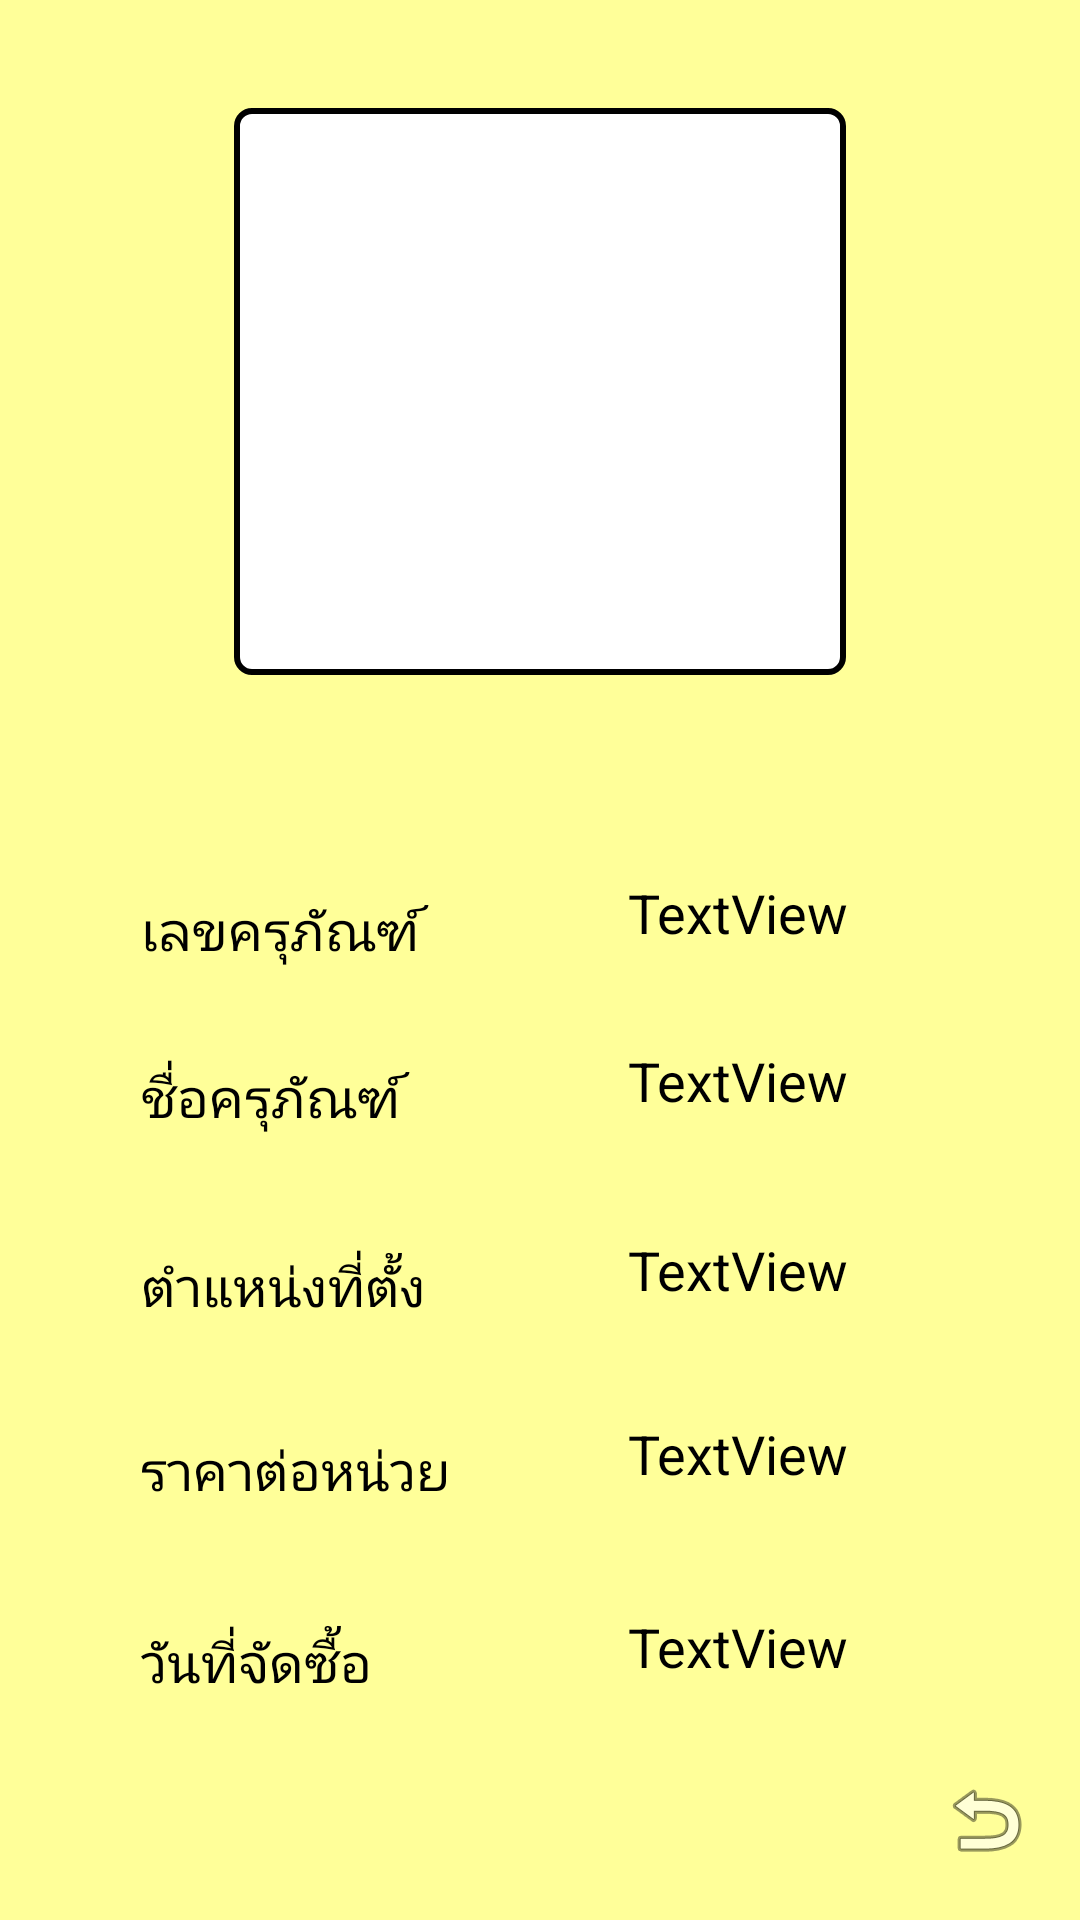

Point at icon controls on the screen. Image size 1080px×1920px, points as [x,y].
revert: [987,1820]
